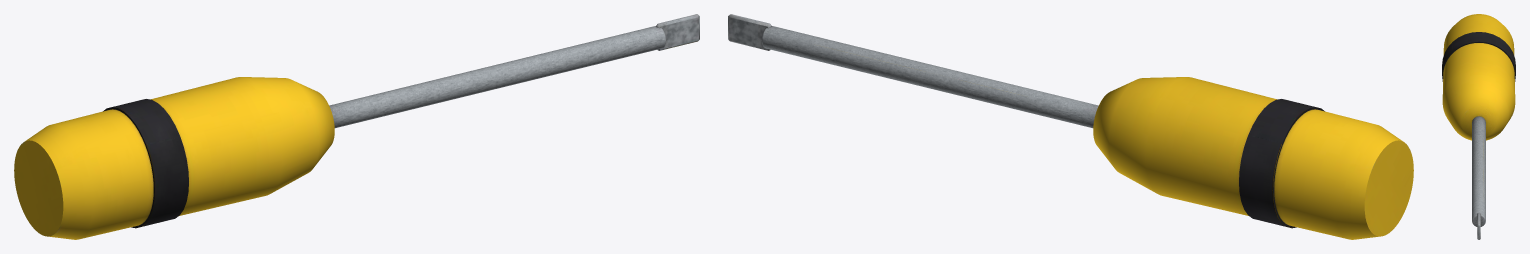
File: driver.glb
3 renders of one model, left to right at view 1: azimuth 30°, elevation 25°; view 2: azimuth 150°, elevation 25°; view 3: azimuth 270°, elevation 25°, orthographic. The views are drawn at different scales.
Visible parts, largest first — view 1: driver; view 2: driver; view 3: driver.
Part boxes in pixels (box(x1,y1,x2,y2)): driver: box(14, 14, 699, 239); driver: box(728, 14, 1413, 239); driver: box(1442, 14, 1515, 239).
Size of the model in its own units: 0.775 by 0.126 by 0.126.
Materials: 1 (1 with a texture image).
